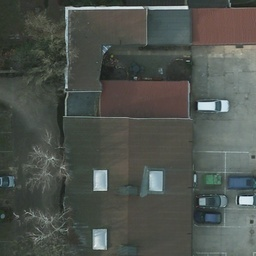car: (194, 97, 229, 113), (195, 209, 223, 226), (196, 195, 229, 209), (225, 175, 255, 189), (234, 193, 256, 208), (1, 174, 16, 189)
